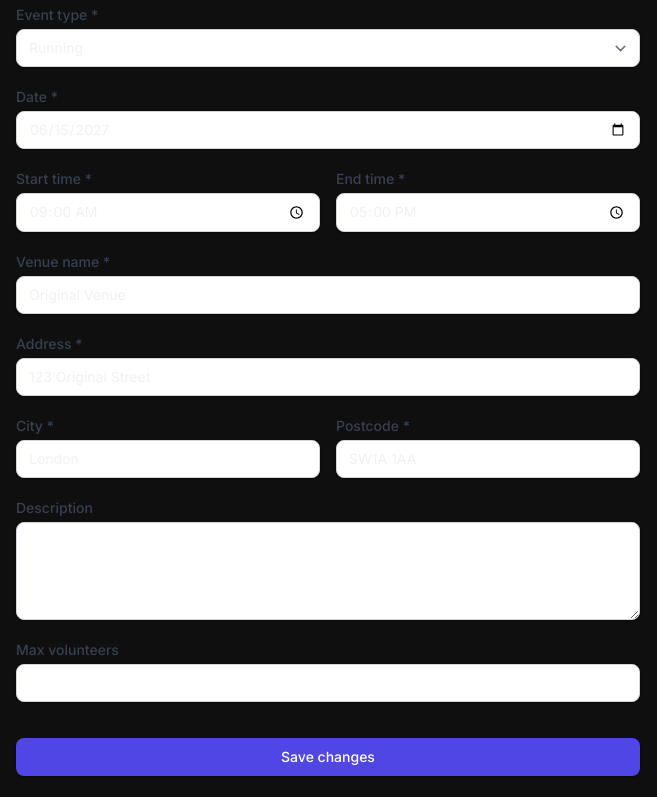
<OrgEventEditForm> › displays a 409 error banner: "Only DRAFT events can be edited."
The width and height of the screenshot is (657, 797).
(page scrolled)
Click the button "Save changes" at [328, 757], box [16,738,640,776]
(page scrolled)
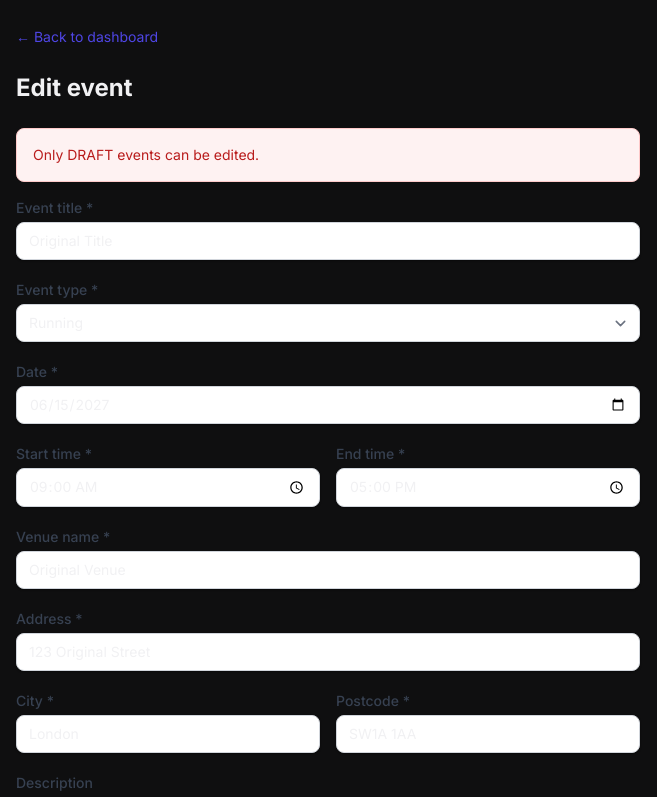
expect the text "Only DRAFT events can be edited." is shown: met, box [16,128,640,182]
